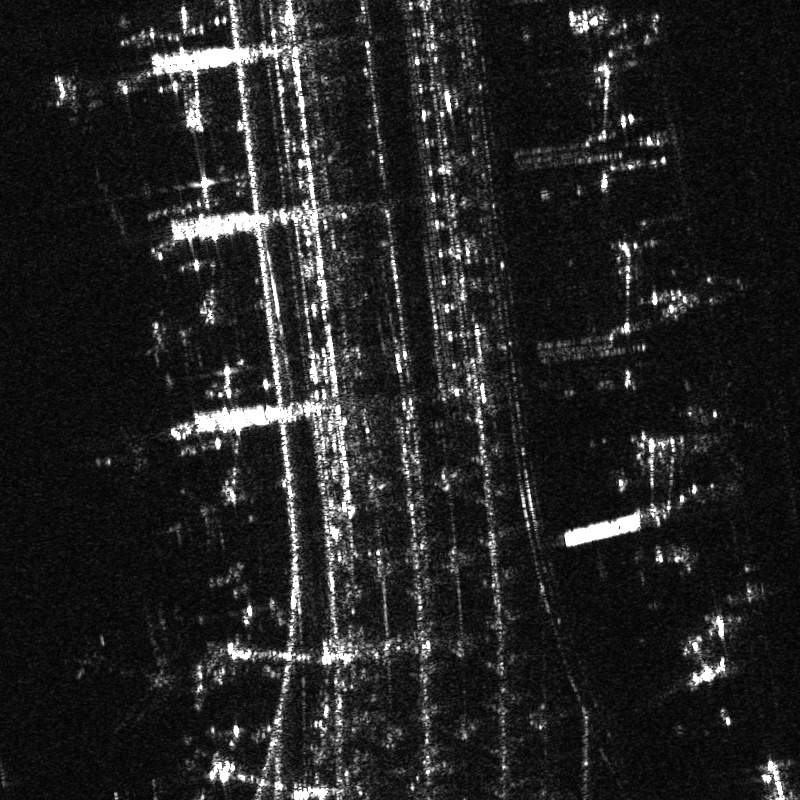Boeing787: (89, 420, 161, 489)
other: (64, 602, 183, 735)
